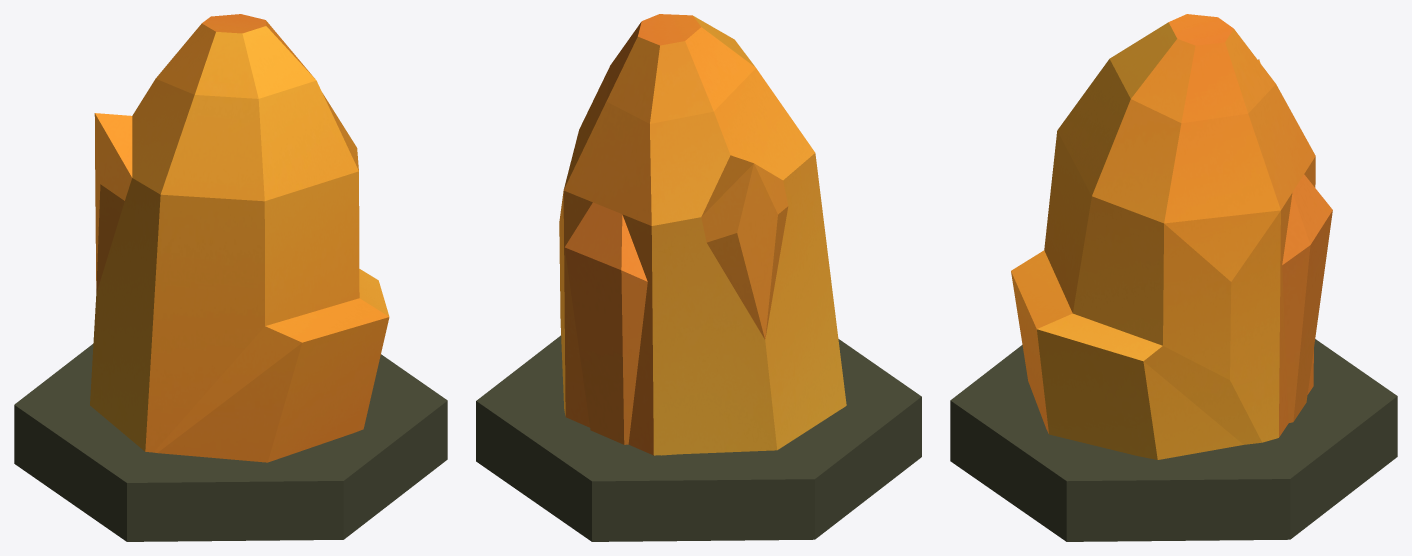
The model's file is GroundBlock(4).fbx.
The picture shows the model from 3 angles, left to right: view 1: azimuth 30°, elevation 25°; view 2: azimuth 150°, elevation 25°; view 3: azimuth 270°, elevation 25°; orthographic projection. The views are drawn at different scales.
Parts seen in each view (by area): view 1: Block2.2; view 2: Block2.2; view 3: Block2.2.
Part boxes in pixels (<box>): Block2.2: <box>14,14,447,541</box>; Block2.2: <box>476,14,921,541</box>; Block2.2: <box>950,14,1397,541</box>.
Bounding box in the file's own units: 1.75 × 2 × 2.18.
